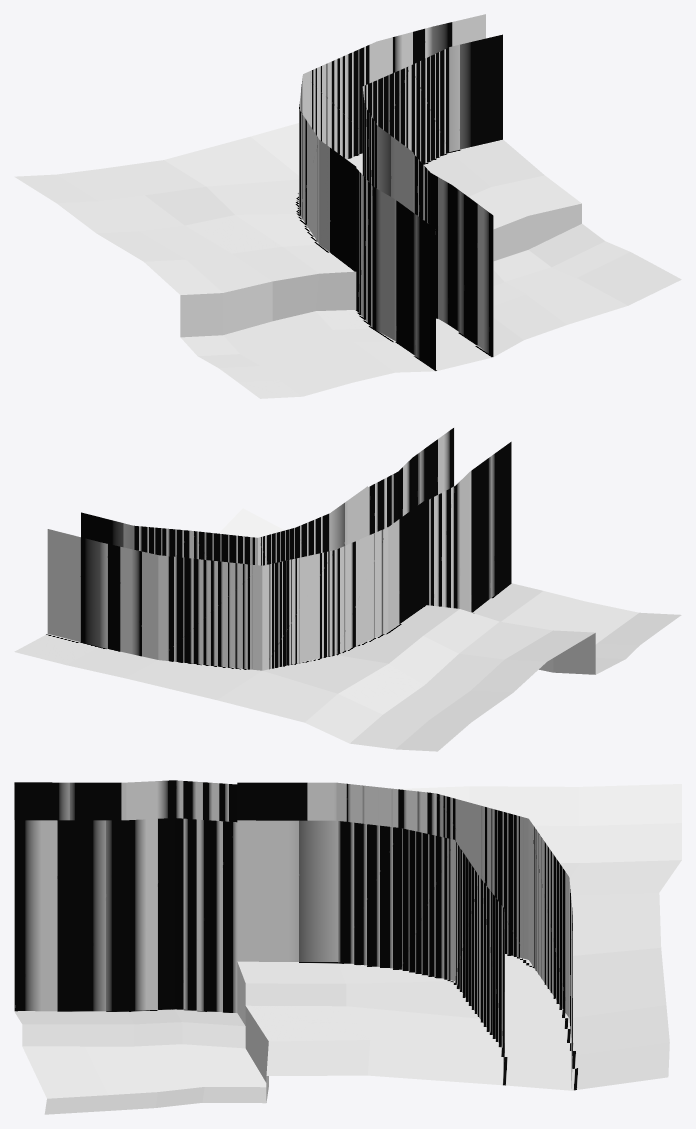
The model's file is TestLevel.fbx.
3 views of the same model, one above another, from view 1: azimuth 30°, elevation 25°; view 2: azimuth 150°, elevation 25°; view 3: azimuth 270°, elevation 25° (orthographic). The views are drawn at different scales.
Parts seen in each view (by area): view 1: Plane, Walls1, Walls2, Traversable; view 2: Walls1, Plane, Walls2; view 3: Plane, Walls1, Walls2, Traversable.
Part boxes in pixels (<box>): Plane: <box>14,123,681,398</box>; Walls1: <box>299,14,502,271</box>; Walls2: <box>356,154,493,370</box>; Traversable: <box>347,153,492,371</box>; Walls1: <box>47,486,425,670</box>; Plane: <box>14,508,681,751</box>; Walls2: <box>368,427,511,612</box>; Plane: <box>14,784,681,1114</box>; Walls1: <box>237,782,572,1088</box>; Walls2: <box>14,780,237,1012</box>; Traversable: <box>503,953,571,1090</box>.
Size of the model in its own units: 2683 by 846 by 2657.
